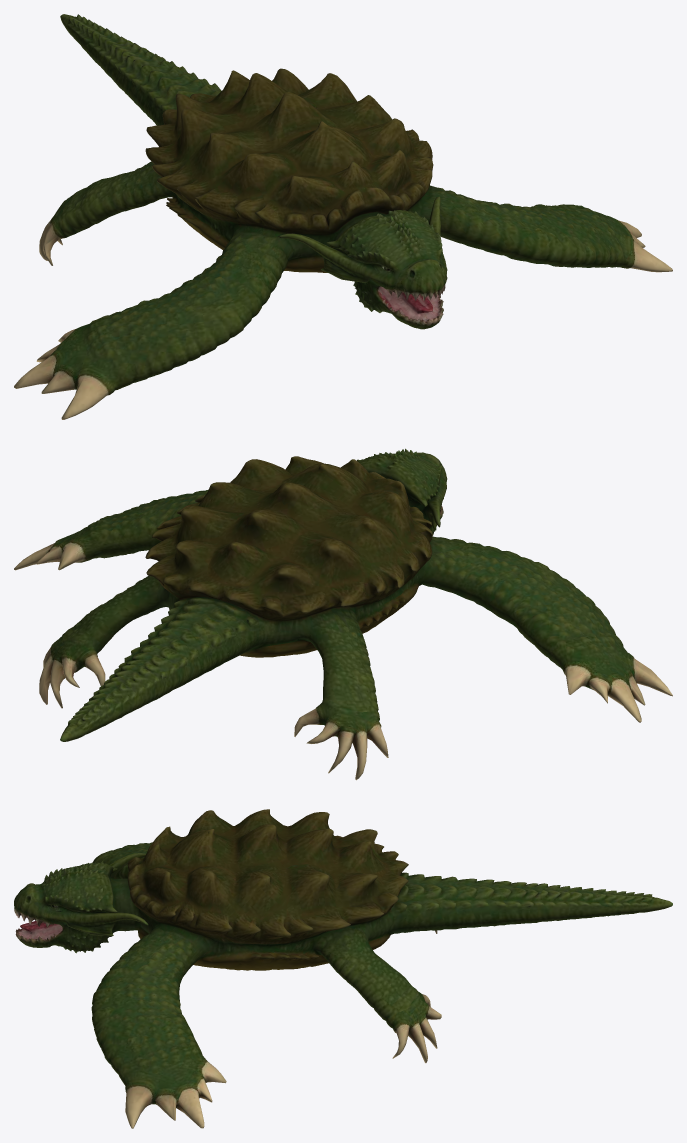
Rendered from MZ4250 - Dragon Turtle.glb.
3 views of the same model, one above another, from view 1: azimuth 30°, elevation 25°; view 2: azimuth 150°, elevation 25°; view 3: azimuth 270°, elevation 25° (orthographic). The views are drawn at different scales.
Visible parts, largest first — view 1: Cylinder.001; view 2: Cylinder.001; view 3: Cylinder.001.
Boxes of the visible parts, bbox=[...] form: Cylinder.001: bbox=[14, 14, 672, 419]; Cylinder.001: bbox=[14, 448, 672, 780]; Cylinder.001: bbox=[14, 809, 672, 1128].
Size of the model in its own units: 213 by 62.99 by 219.
1 material, 1 textured.
